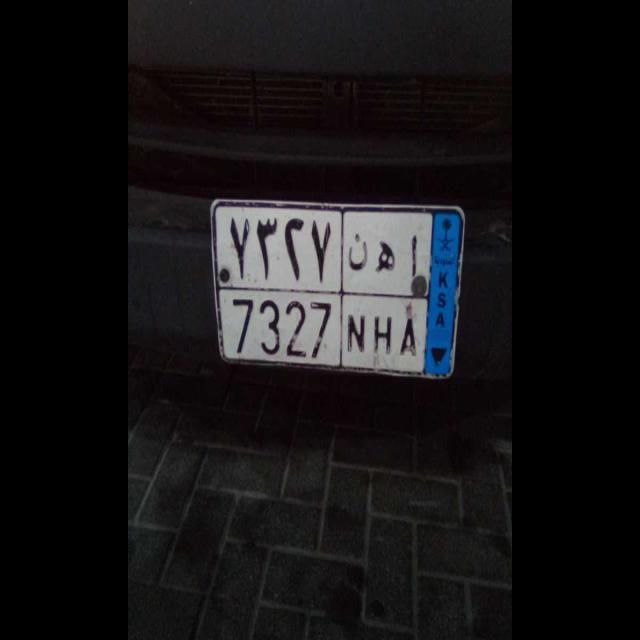license_plate: (211, 286, 426, 373)
